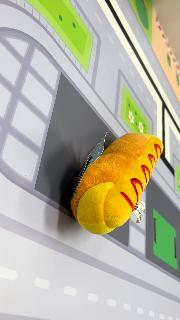hotdog: (70, 132, 164, 236)
